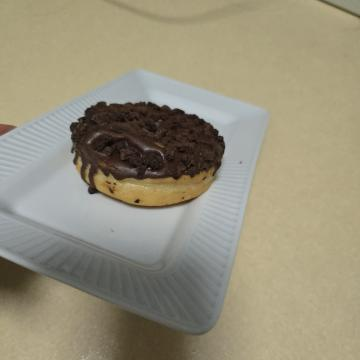doughnut: (85, 126, 218, 300)
